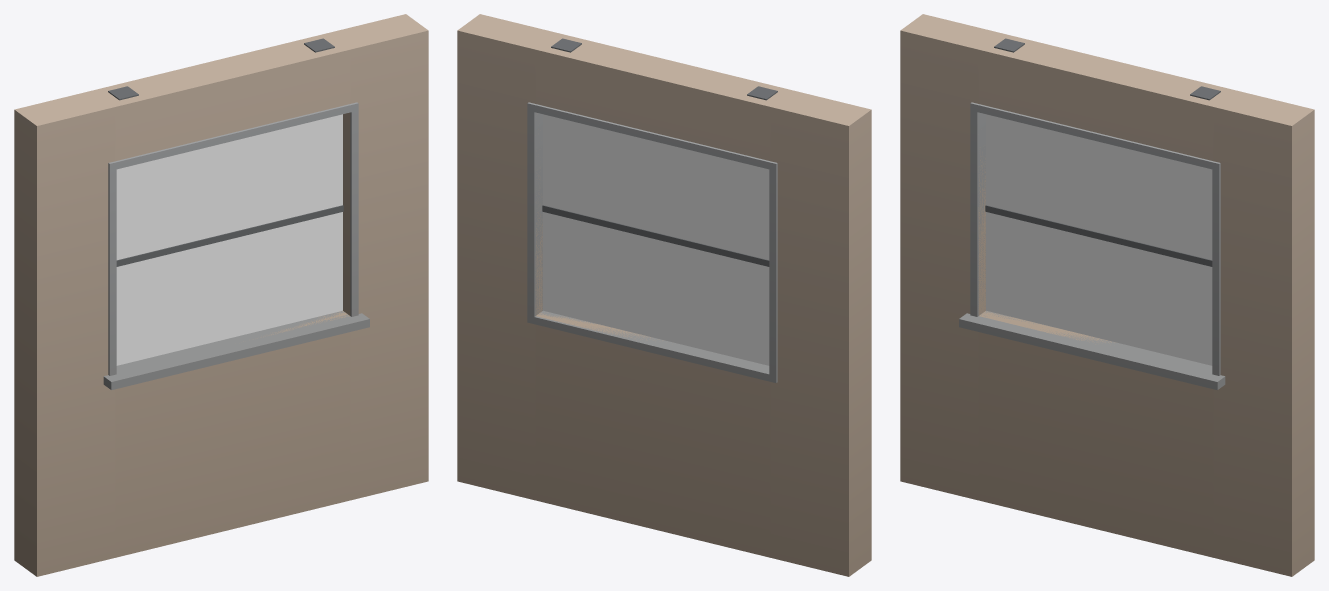
Rendered from windowWall_regocrete.glb.
3 renders of one model, left to right at view 1: azimuth 30°, elevation 25°; view 2: azimuth 150°, elevation 25°; view 3: azimuth 330°, elevation 25°, orthographic.
Parts seen in each view (by area): view 1: windowWall_regocrete; view 2: windowWall_regocrete; view 3: windowWall_regocrete.
Boxes of the visible parts, x1,y1,x2,y2 form: windowWall_regocrete: [14, 14, 428, 576]; windowWall_regocrete: [457, 14, 871, 576]; windowWall_regocrete: [900, 14, 1314, 576].
Bounding box in the file's own units: 2 × 2.21 × 0.282.
